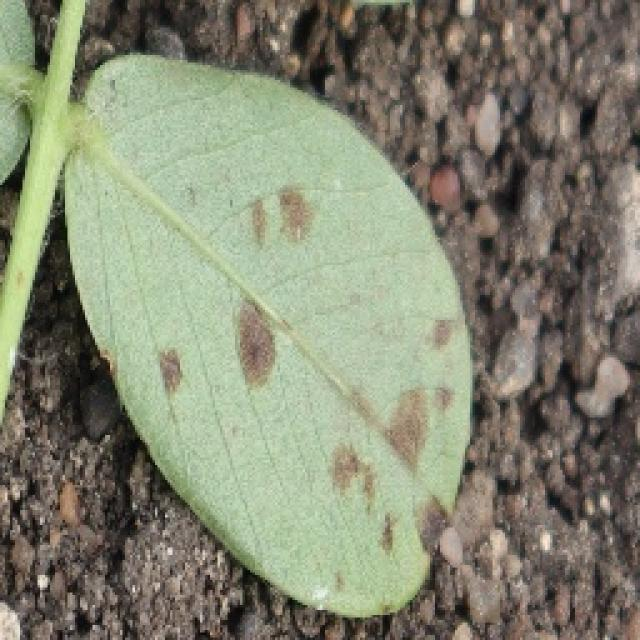Whitefly: (59, 61, 467, 604)
